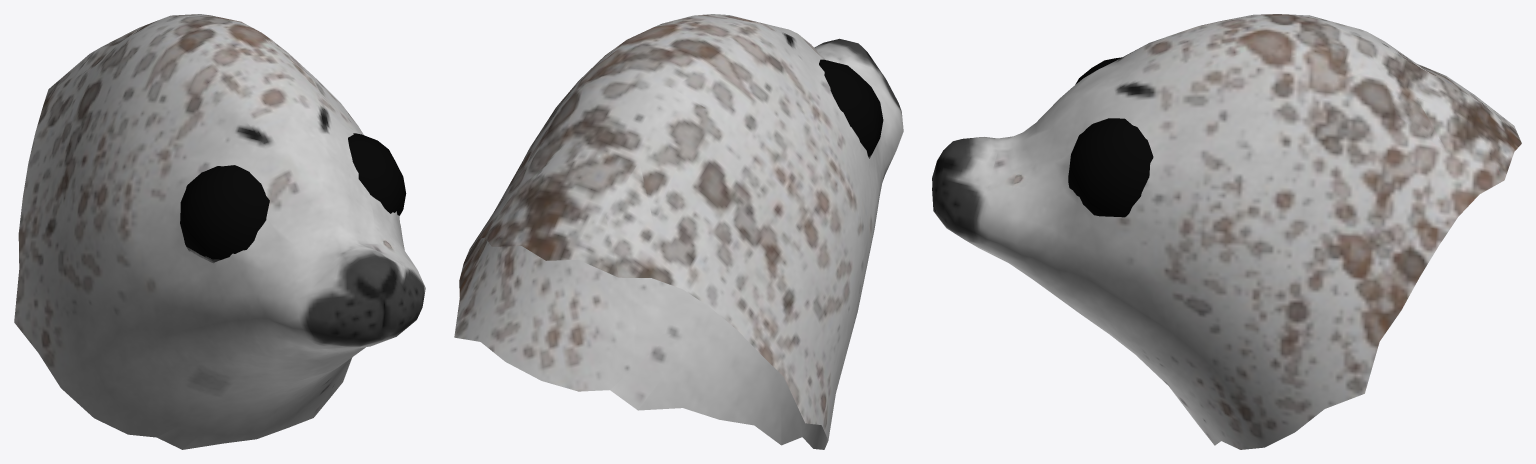
Rendered from seal_head.obj.
3 views of the same model, side by side, from view 1: azimuth 30°, elevation 25°; view 2: azimuth 150°, elevation 25°; view 3: azimuth 270°, elevation 25° (orthographic). The views are drawn at different scales.
Parts seen in each view (by area): view 1: defaultMaterial.003; view 2: defaultMaterial.003; view 3: defaultMaterial.003.
Part boxes in pixels (x1,y1,x2,y2): defaultMaterial.003: (14, 14, 425, 449); defaultMaterial.003: (454, 14, 903, 449); defaultMaterial.003: (932, 14, 1521, 449).
Size of the model in its own units: 0.3474 by 0.391 by 0.5388.
